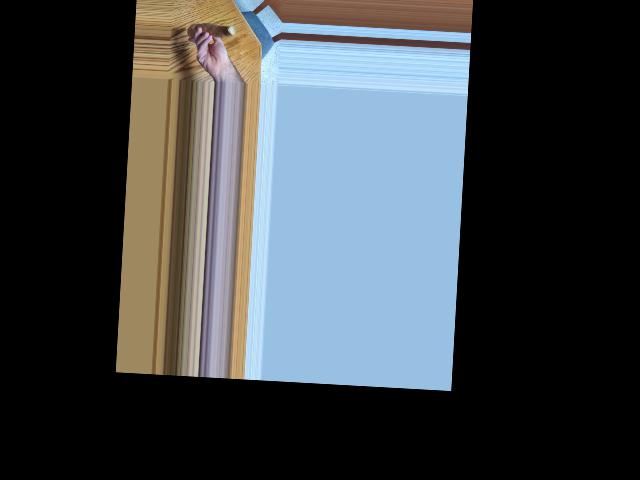sweet_potato: (186, 21, 236, 44)
